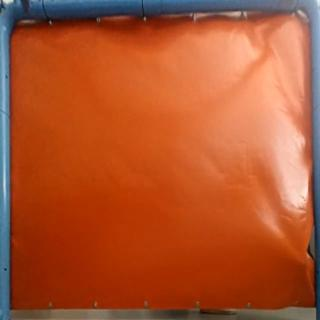Hit-hRxx: (290, 253, 308, 269)
